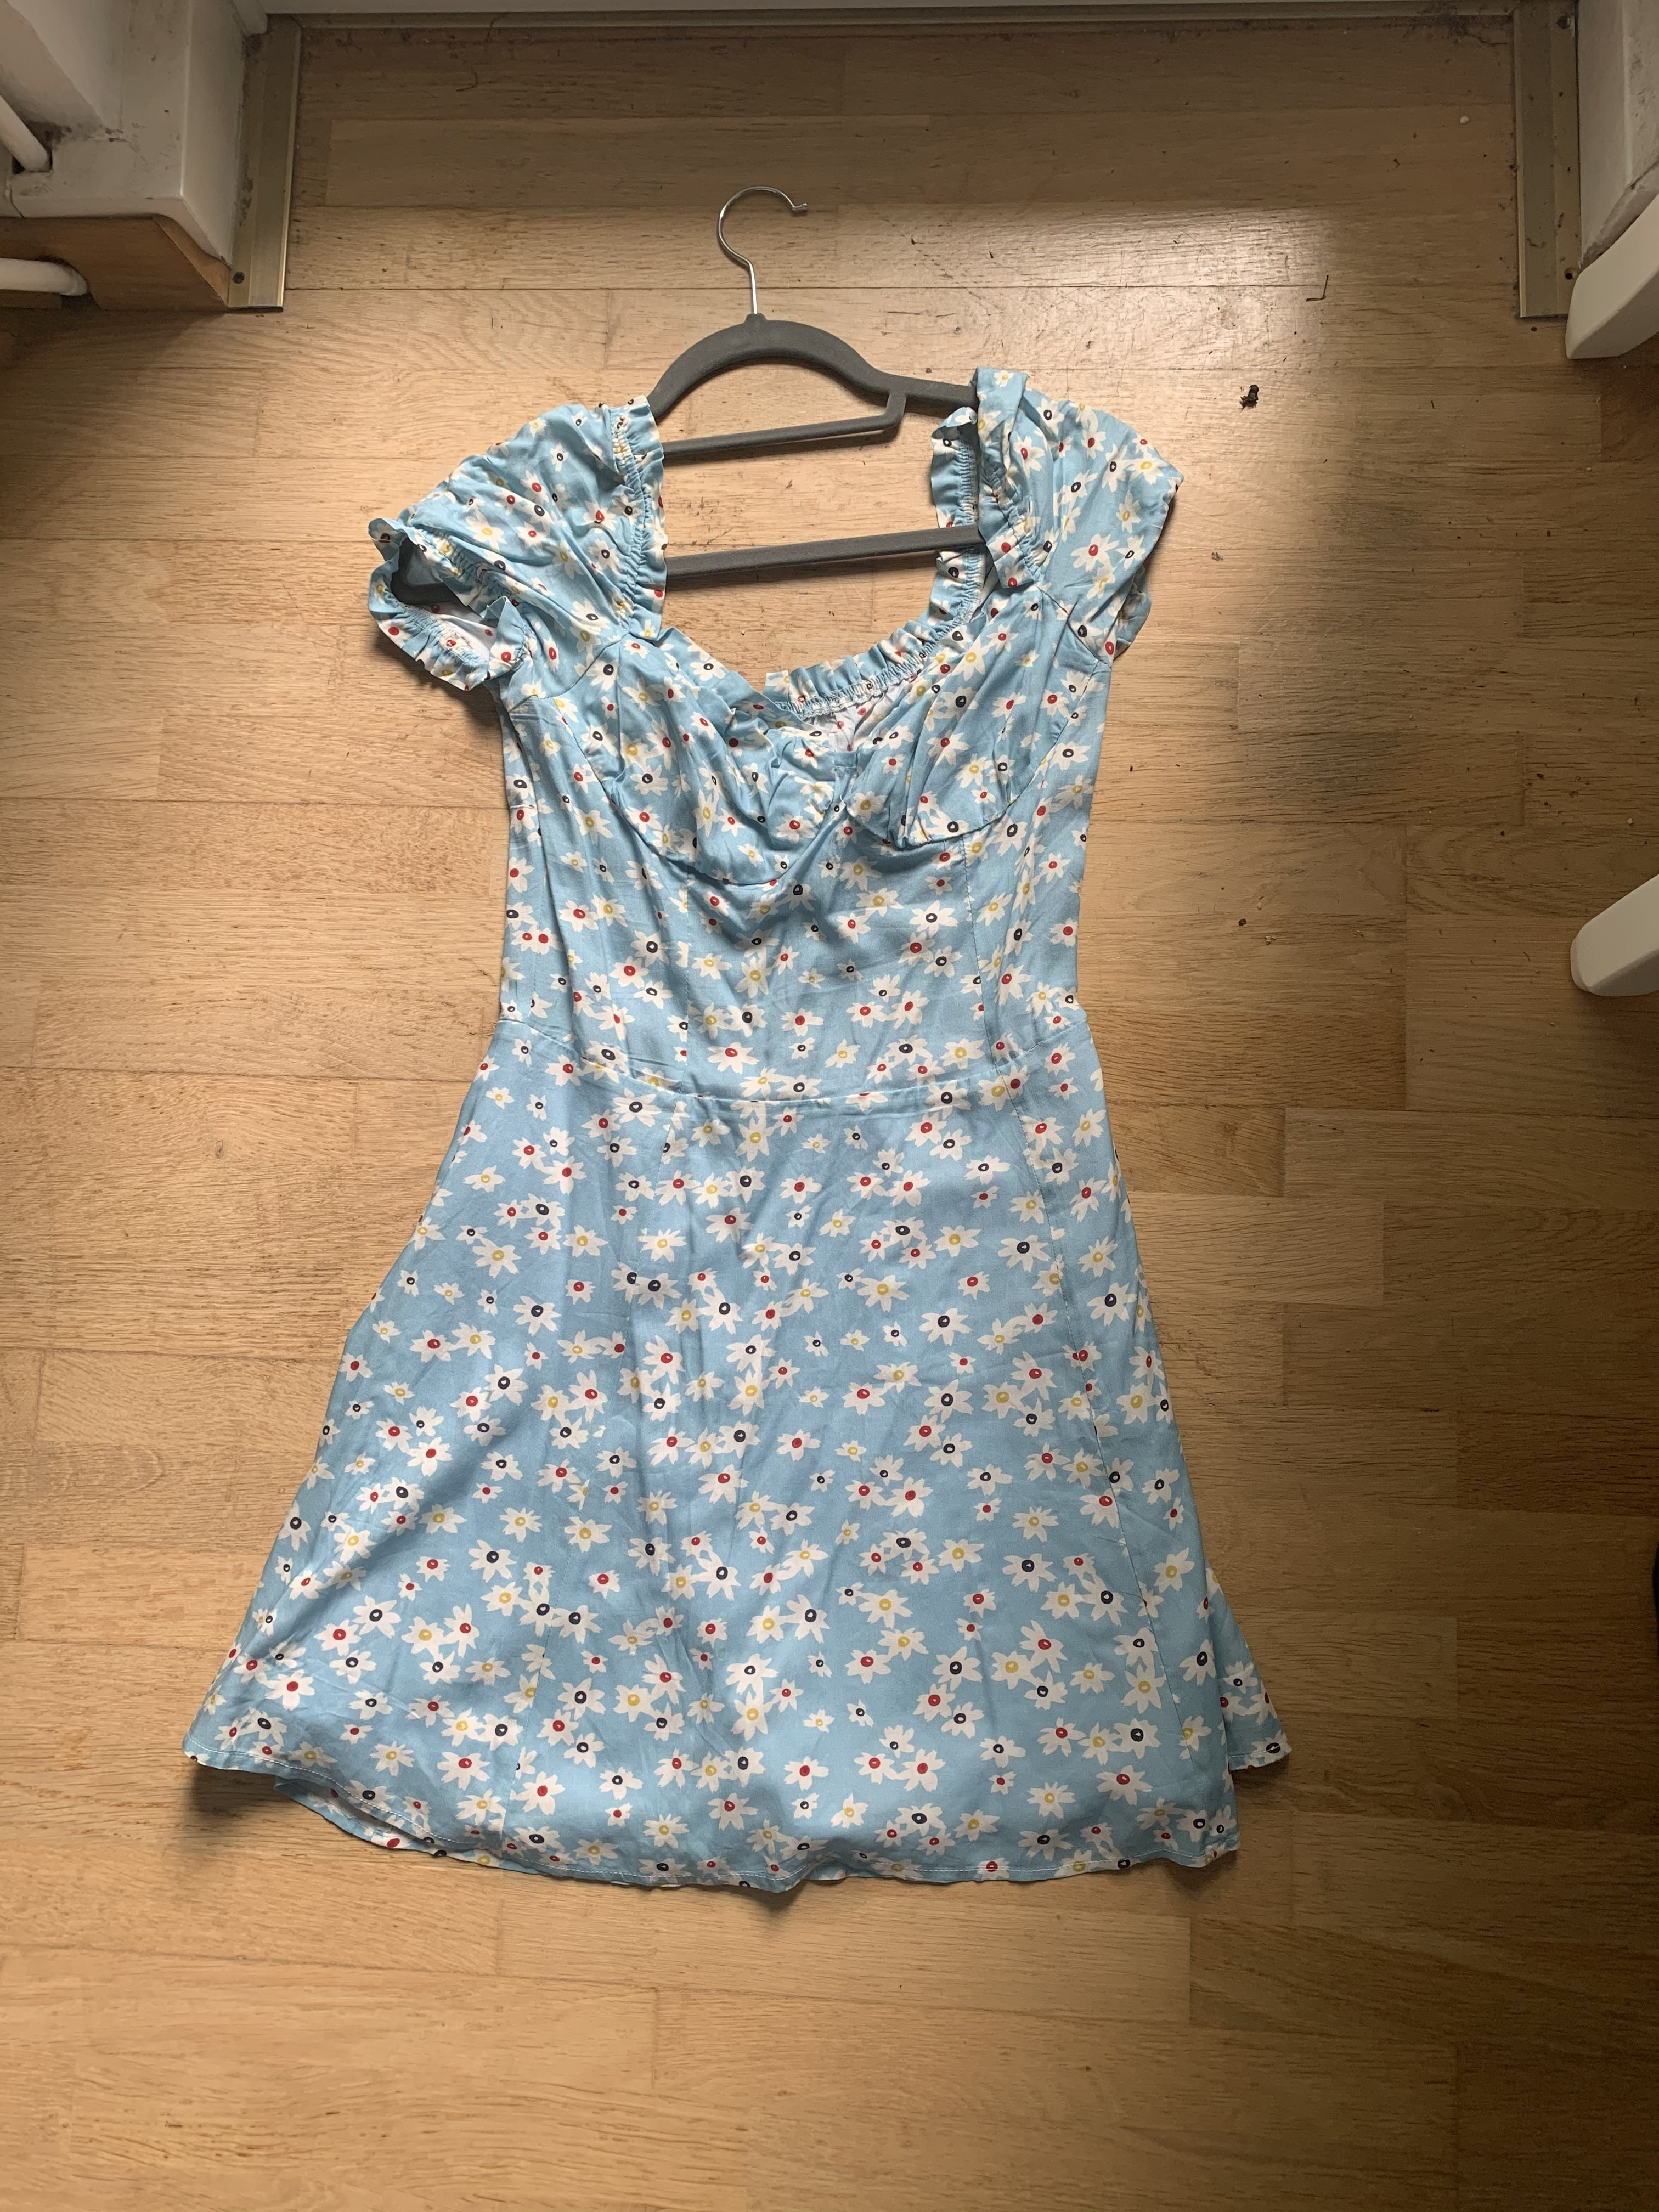clothes: (153, 364, 1310, 1890)
